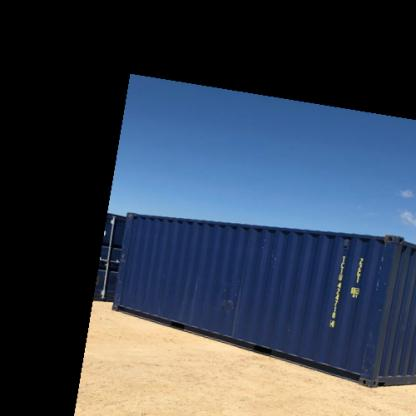Damage: (216, 270, 250, 330)
